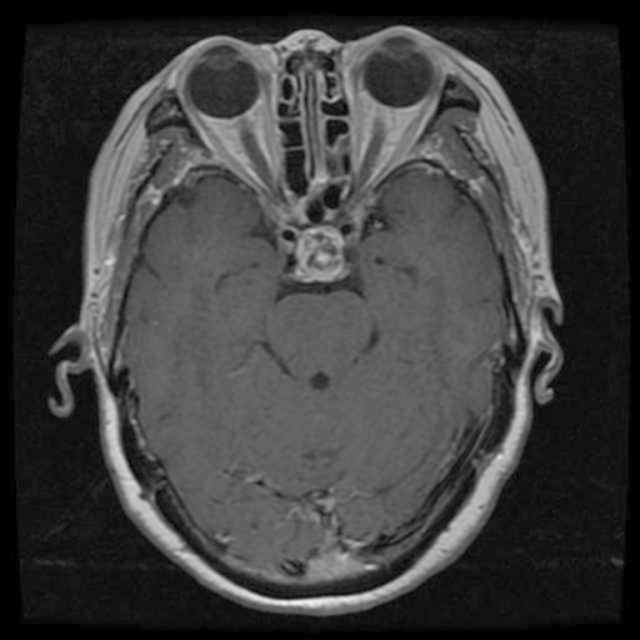no tumor: (299, 218, 350, 288)
